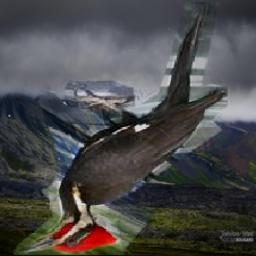Woodpecker: (15, 3, 229, 256)
